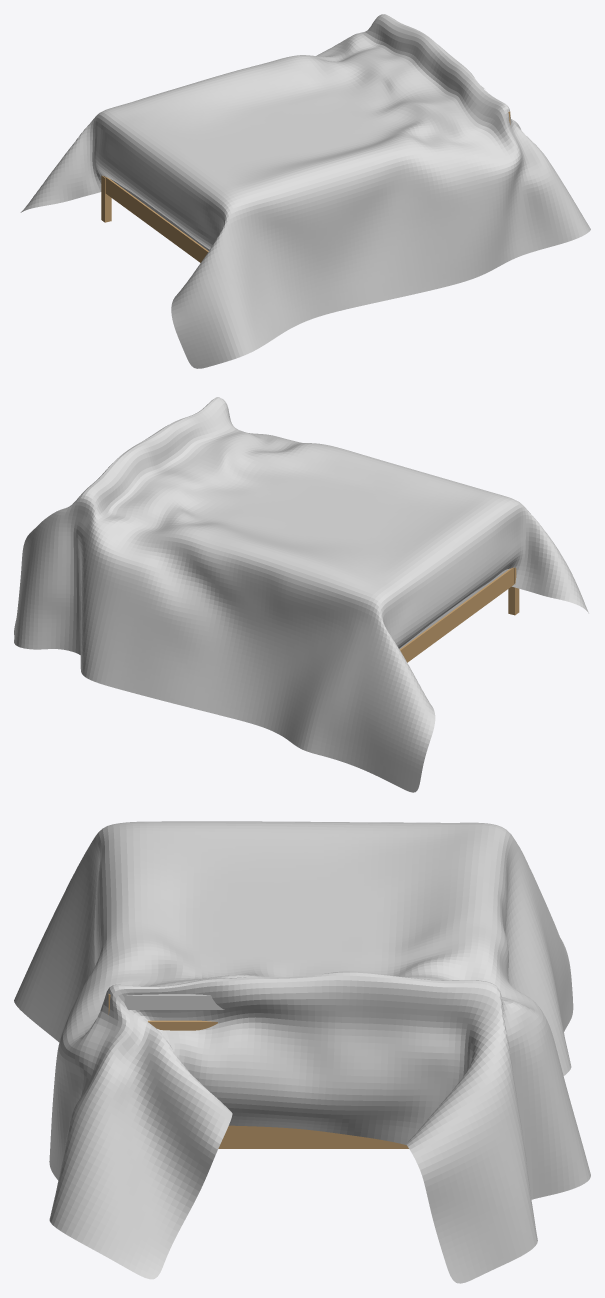
3 renders of one model, top to bottom at view 1: azimuth 30°, elevation 25°; view 2: azimuth 150°, elevation 25°; view 3: azimuth 270°, elevation 25°, orthographic. The views are drawn at different scales.
Visible parts, largest first — view 1: Plane, MARCO DE MADERA; view 2: Plane, MARCO DE MADERA; view 3: Plane, MARCO DE MADERA, Cube.001.
Part boxes in pixels (<box>): Plane: <box>20,14,590,368</box>; MARCO DE MADERA: <box>101,111,510,262</box>; Plane: <box>14,397,588,792</box>; MARCO DE MADERA: <box>399,567,519,662</box>; Plane: <box>14,821,590,1283</box>; MARCO DE MADERA: <box>108,994,408,1148</box>; Cube.001: <box>124,994,224,1009</box>.
Size of the model in its own units: 3.14 by 1.34 by 2.41.
